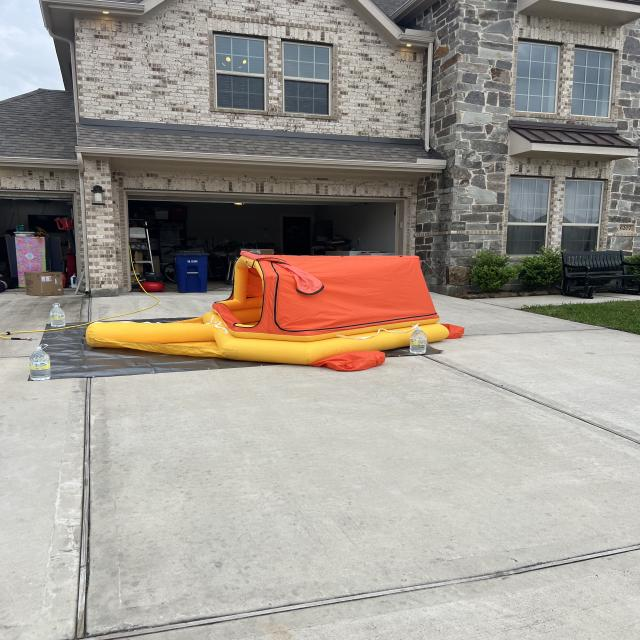Multi-person_life_raft: (85, 249, 464, 372)
